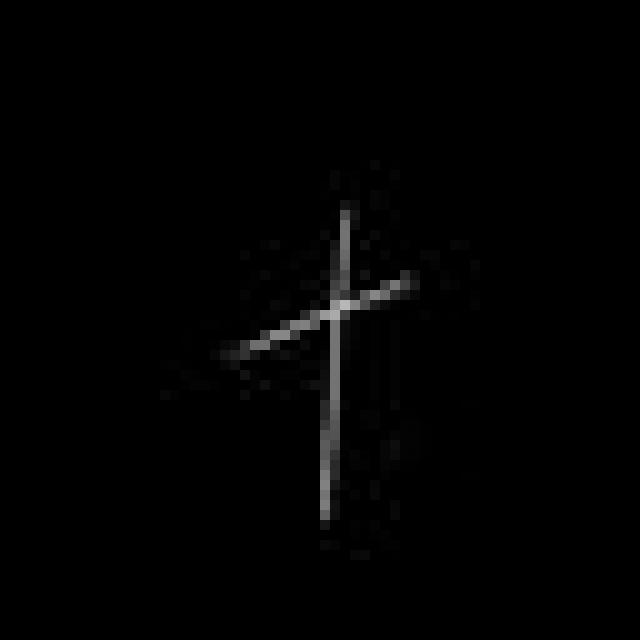10 -ten-: (226, 204, 420, 534)
